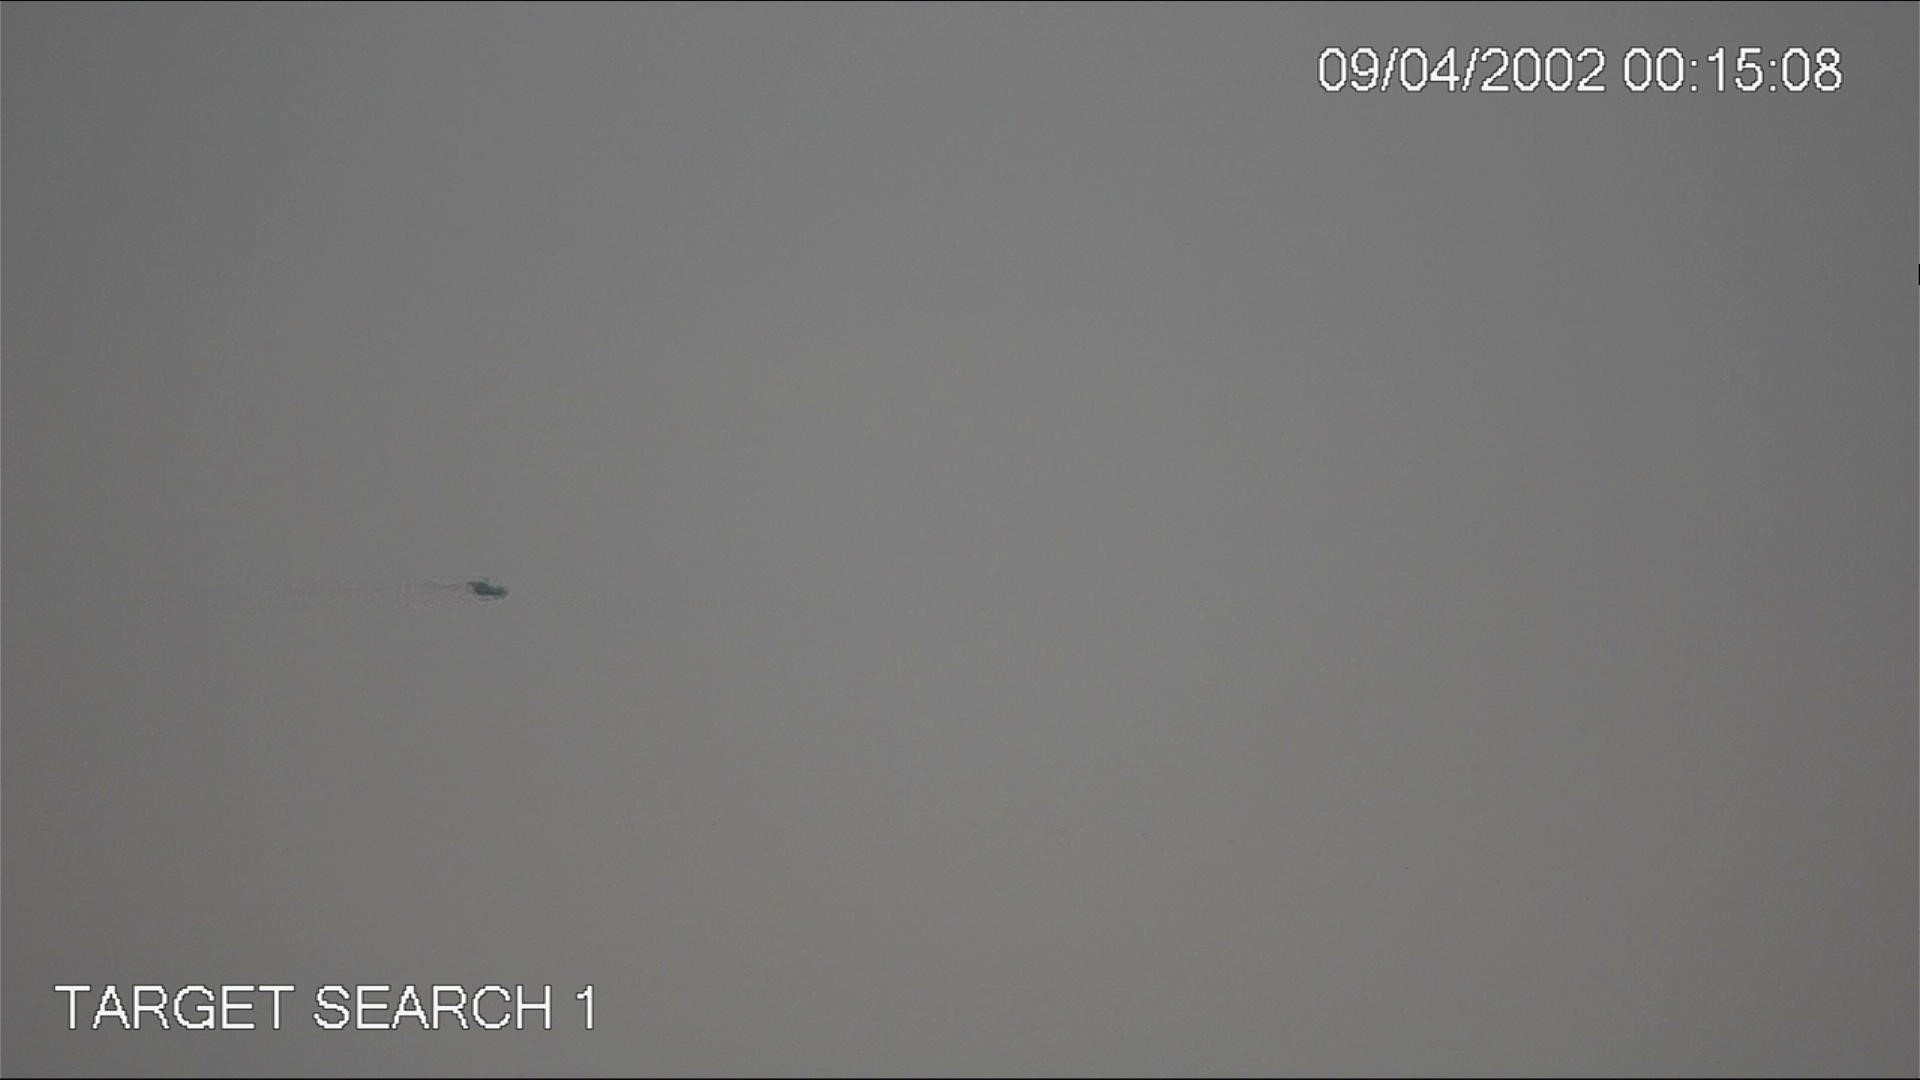SU_30: (436, 571, 516, 616)
